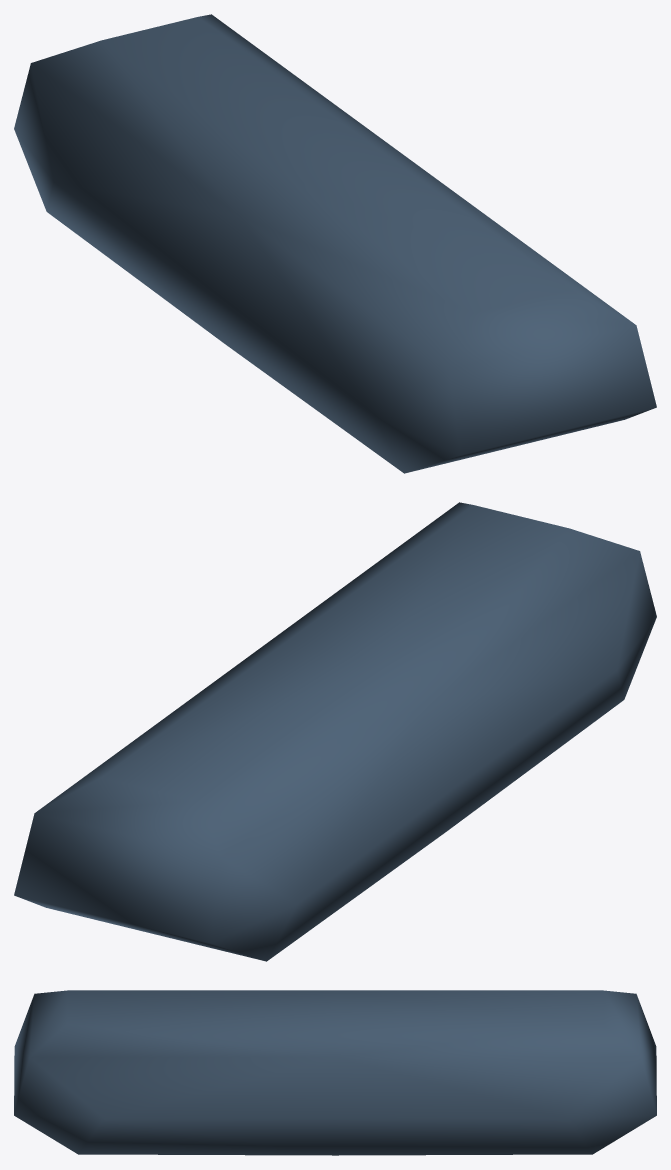
File: bannerBlue.obj
3 renders of one model, top to bottom at view 1: azimuth 30°, elevation 25°; view 2: azimuth 150°, elevation 25°; view 3: azimuth 270°, elevation 25°, orthographic. The views are drawn at different scales.
Parts seen in each view (by area): view 1: Cube; view 2: Cube; view 3: Cube.
Part boxes in pixels (x1,y1,x2,y2): Cube: [14, 14, 656, 473]; Cube: [14, 502, 656, 961]; Cube: [14, 990, 656, 1155].
Size of the model in its own units: 0.0941 by 0.0586 by 0.3128.
